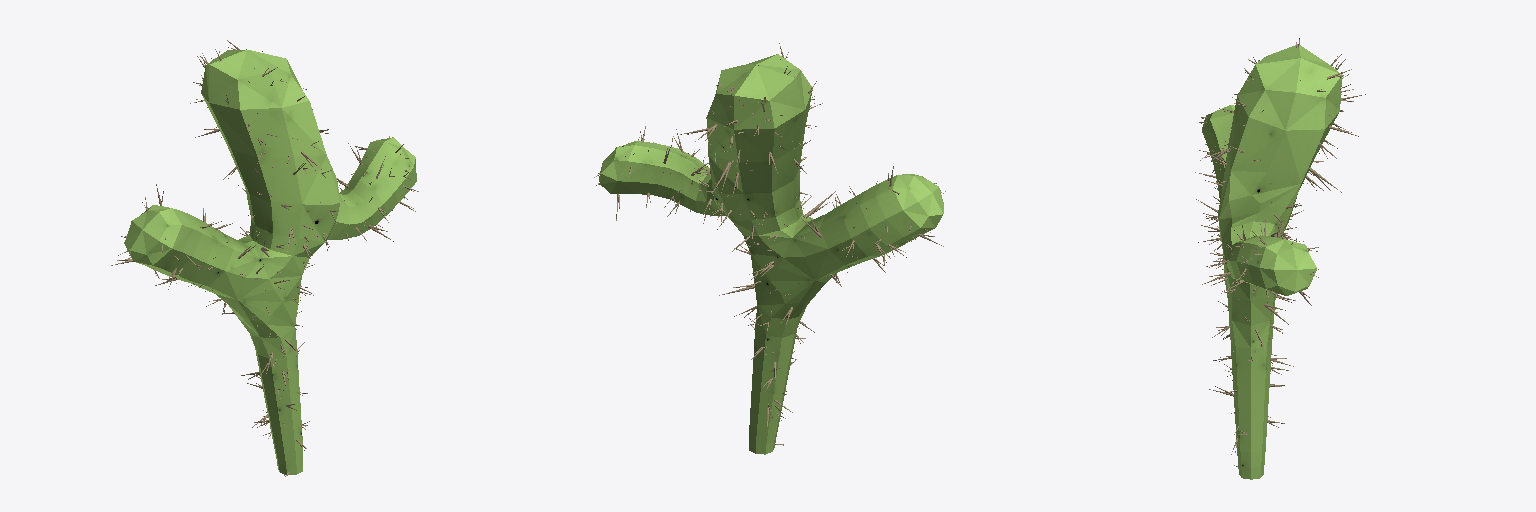
3 renders of one model, left to right at view 1: azimuth 30°, elevation 25°; view 2: azimuth 150°, elevation 25°; view 3: azimuth 270°, elevation 25°, orthographic.
Parts seen in each view (by area): view 1: Cactus_Cube, Cube.086_Cube.002; view 2: Cactus_Cube, Cube.086_Cube.002; view 3: Cactus_Cube, Cube.086_Cube.002.
Part boxes in pixels (left/top/right/bottom): Cactus_Cube: left=124, top=49, right=416, bottom=475; Cube.086_Cube.002: left=111, top=40, right=418, bottom=476; Cactus_Cube: left=599, top=54, right=943, bottom=454; Cube.086_Cube.002: left=594, top=43, right=945, bottom=445; Cactus_Cube: left=1202, top=44, right=1341, bottom=479; Cube.086_Cube.002: left=1195, top=38, right=1365, bottom=466.
Size of the model in its own units: 7.29 by 8.97 by 3.37.
2 materials, 1 textured.